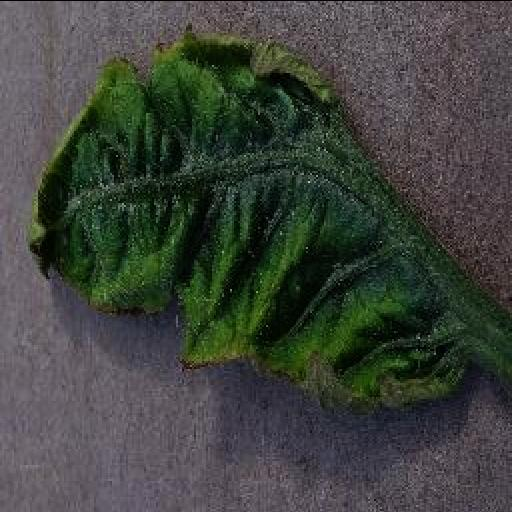disease_tomato: (25, 24, 475, 406)
